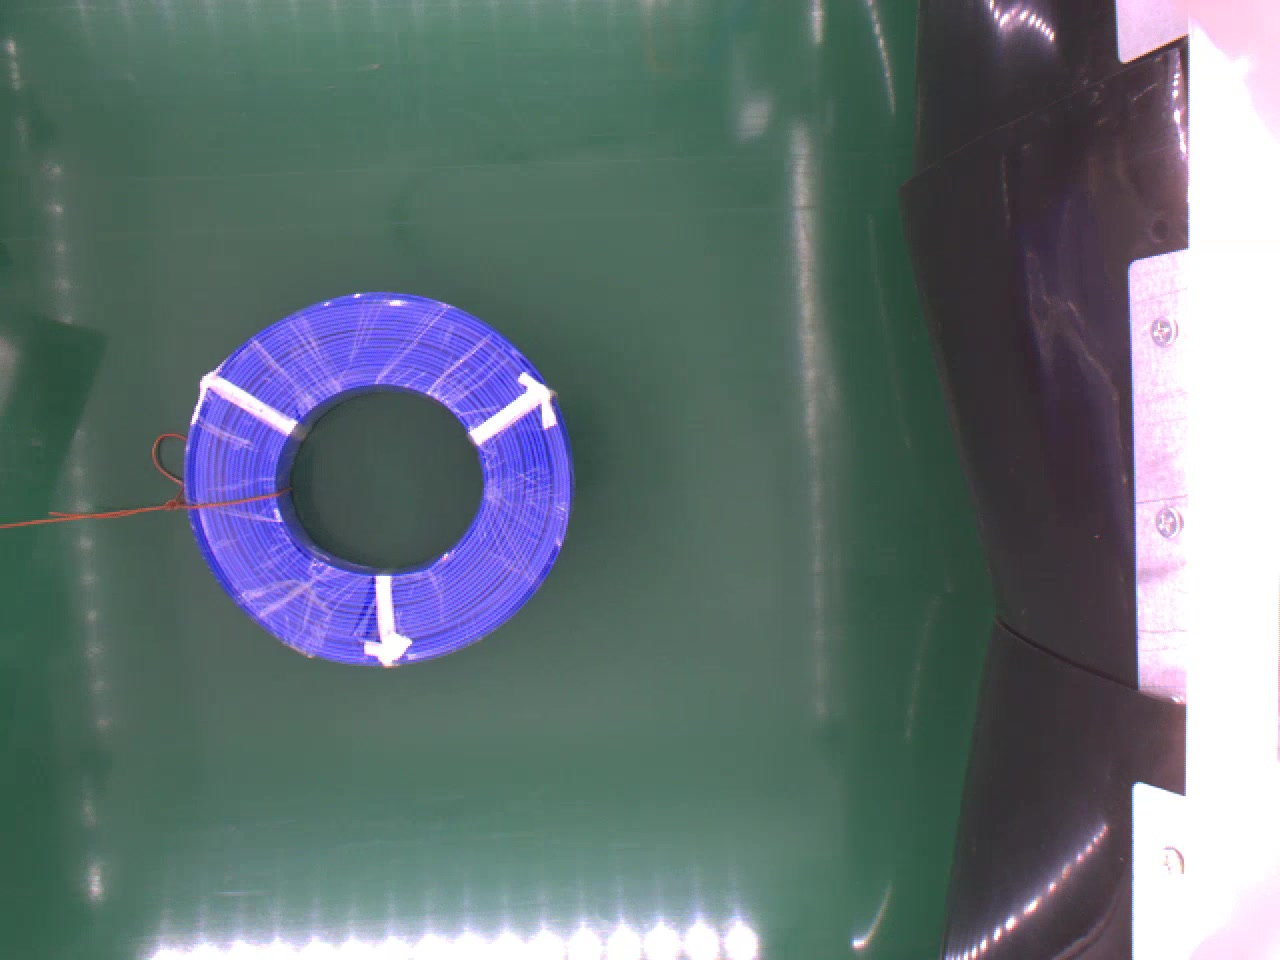blue: (181, 287, 577, 667)
